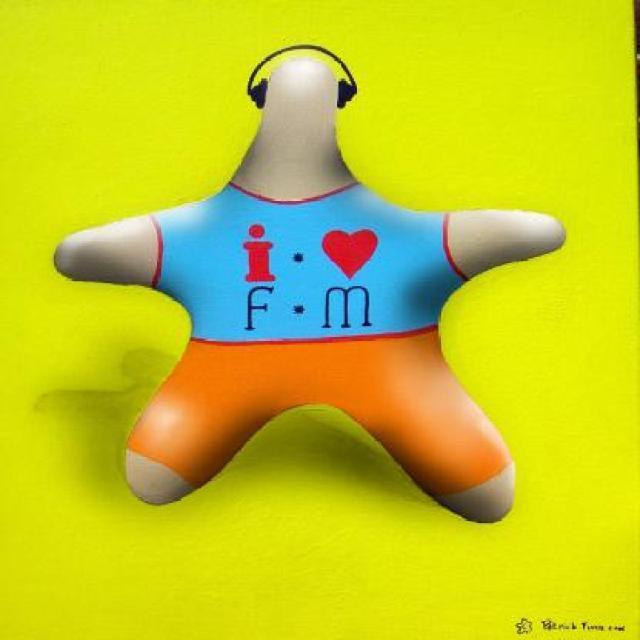earphone: (231, 39, 395, 119)
